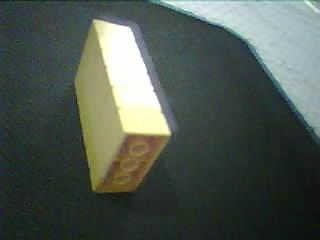lego: (72, 18, 172, 193)
